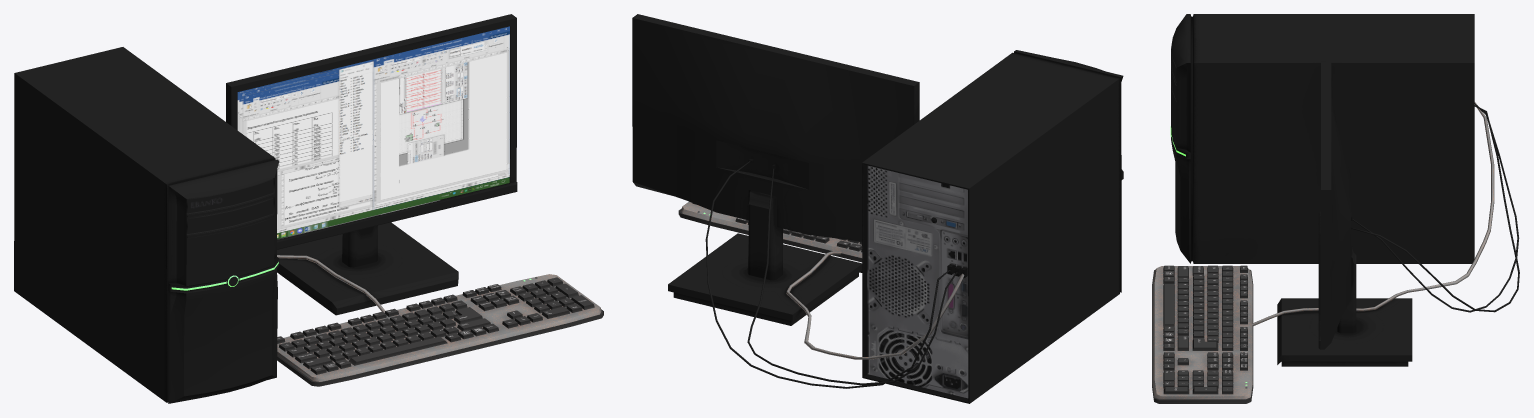
The model's file is personal_computer.glb.
3 renders of one model, left to right at view 1: azimuth 30°, elevation 25°; view 2: azimuth 150°, elevation 25°; view 3: azimuth 270°, elevation 25°, orthographic. The views are drawn at different scales.
Parts seen in each view (by area): view 1: Cube_PC_0_4, Cube_Screen_0_6, Cube_Keyboard_0_7; view 2: Cube_PC_0_4, Cube_Keyboard_0_7; view 3: Cube_PC_0_4, Cube_Keyboard_0_7.
Part boxes in pixels (x1=…): Cube_PC_0_4: x1=14, y1=14, x2=517, y2=403; Cube_Screen_0_6: x1=237, y1=26, x2=509, y2=238; Cube_Keyboard_0_7: x1=277, y1=255, x2=603, y2=386; Cube_PC_0_4: x1=632, y1=14, x2=1123, y2=403; Cube_Keyboard_0_7: x1=678, y1=201, x2=964, y2=359; Cube_PC_0_4: x1=1171, y1=14, x2=1519, y2=366; Cube_Keyboard_0_7: x1=1152, y1=102, x2=1494, y2=403.
Bounding box in the file's own units: 1.29 × 0.6827 × 1.06.
Materials: 4 (3 with a texture image).
